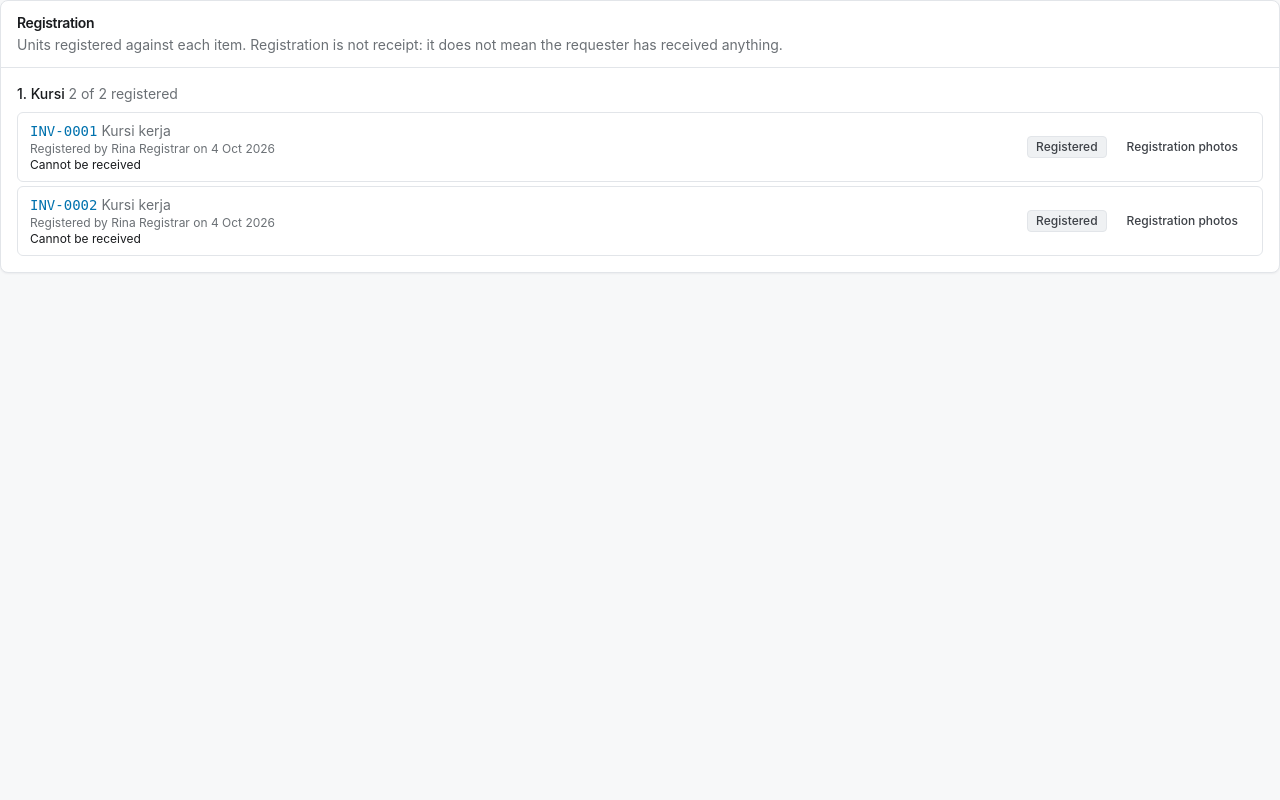
Test: the dialog › says what the photos are — and that they are not proof of receipt
Click the button "Registration photos" in the row of "INV-0001" at [1182, 147], box [1115,131,1250,163]
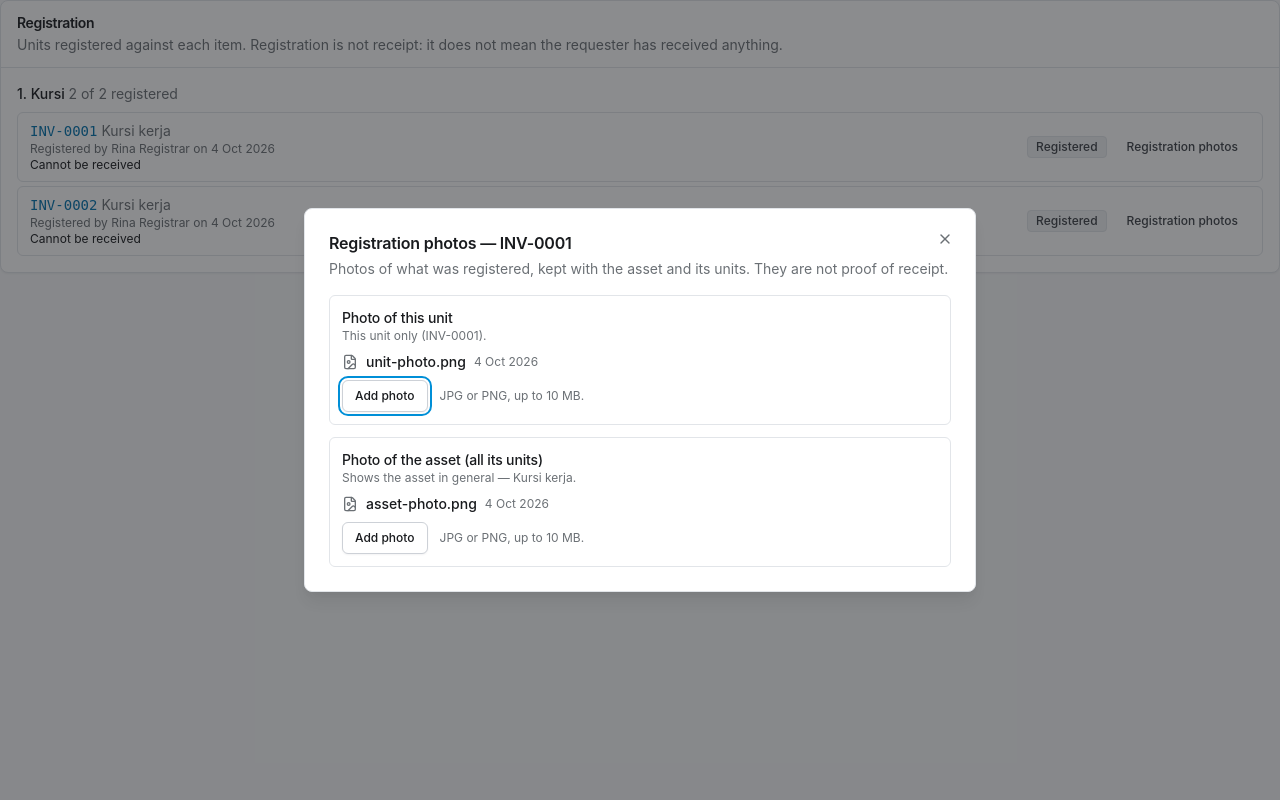
Check: the heading "Registration photos — INV-0001" is shown, box [329,233,572,253]
Check: the text "Photos of what was registered, kept with the asset and its units. They are not proof of receipt." is shown, box [329,260,948,277]
